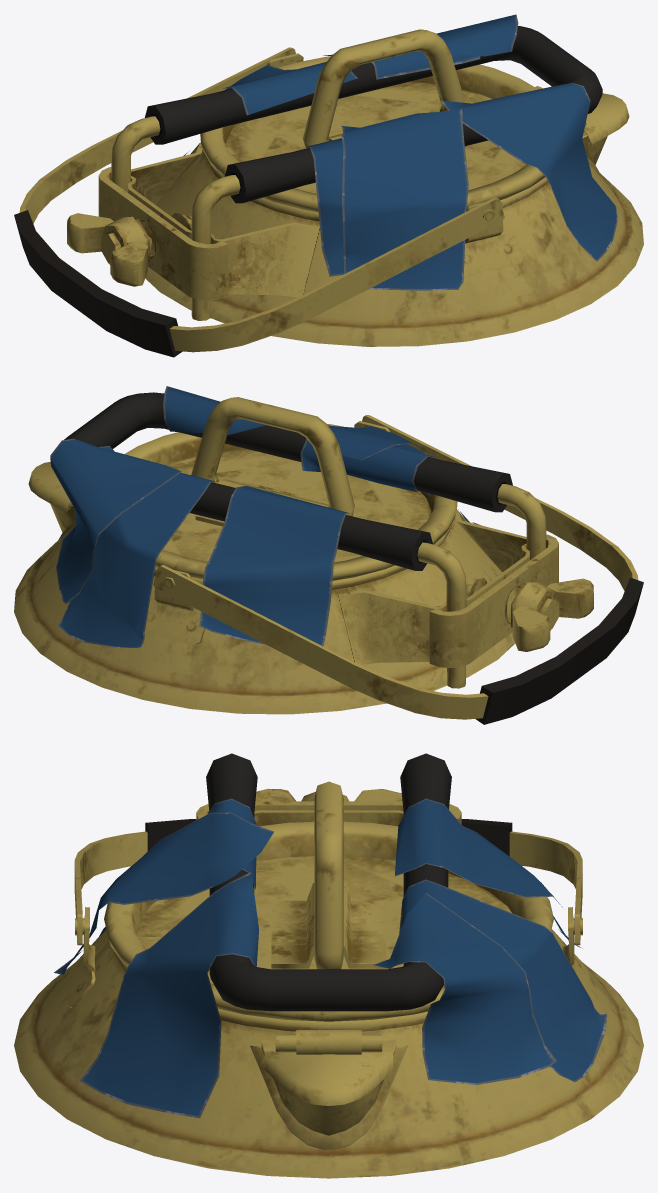
The picture shows the model from 3 angles, top to bottom: view 1: azimuth 30°, elevation 25°; view 2: azimuth 150°, elevation 25°; view 3: azimuth 270°, elevation 25°; orthographic projection. The views are drawn at different scales.
Visible parts, largest first — view 1: Obj_Gateway_body_innerplate_low__M_Gateway, Obj_Gateway_tape1__M_GatewayTape, Obj_Gateway_handle_long_low__M_Gateway, Obj_Gateway_cover_main_low__M_Gateway, Obj_Gateway_grip_long_low__M_Gateway; view 2: Obj_Gateway_body_innerplate_low__M_Gateway, Obj_Gateway_tape1__M_GatewayTape, Obj_Gateway_handle_long_low__M_Gateway, Obj_Gateway_cover_main_low__M_Gateway, Obj_Gateway_grip_long_low__M_Gateway; view 3: Obj_Gateway_body_innerplate_low__M_Gateway, Obj_Gateway_tape1__M_GatewayTape, Obj_Gateway_cover_main_low__M_Gateway, Obj_Gateway_grip_long_low__M_Gateway, Obj_Gateway_handle_long_low__M_Gateway.
Boxes of the visible parts, x1=… form: Obj_Gateway_body_innerplate_low__M_Gateway: x1=98, y1=53, x2=643, y2=346; Obj_Gateway_tape1__M_GatewayTape: x1=183, y1=14, x2=618, y2=290; Obj_Gateway_handle_long_low__M_Gateway: x1=14, y1=47, x2=504, y2=357; Obj_Gateway_cover_main_low__M_Gateway: x1=200, y1=29, x2=545, y2=212; Obj_Gateway_grip_long_low__M_Gateway: x1=111, y1=26, x2=602, y2=320; Obj_Gateway_body_innerplate_low__M_Gateway: x1=14, y1=421, x2=558, y2=714; Obj_Gateway_tape1__M_GatewayTape: x1=50, y1=386, x2=480, y2=647; Obj_Gateway_handle_long_low__M_Gateway: x1=153, y1=415, x2=643, y2=724; Obj_Gateway_cover_main_low__M_Gateway: x1=124, y1=397, x2=457, y2=580; Obj_Gateway_grip_long_low__M_Gateway: x1=64, y1=392, x2=546, y2=688; Obj_Gateway_body_innerplate_low__M_Gateway: x1=14, y1=801, x2=643, y2=1178; Obj_Gateway_tape1__M_GatewayTape: x1=54, y1=798, x2=606, y2=1118; Obj_Gateway_cover_main_low__M_Gateway: x1=104, y1=781, x2=553, y2=1021; Obj_Gateway_grip_long_low__M_Gateway: x1=206, y1=753, x2=451, y2=1011; Obj_Gateway_handle_long_low__M_Gateway: x1=74, y1=788, x2=582, y2=945.
Bounding box in the file's own units: 3.74 × 1.27 × 3.03.
Materials: 3 (3 with a texture image).
